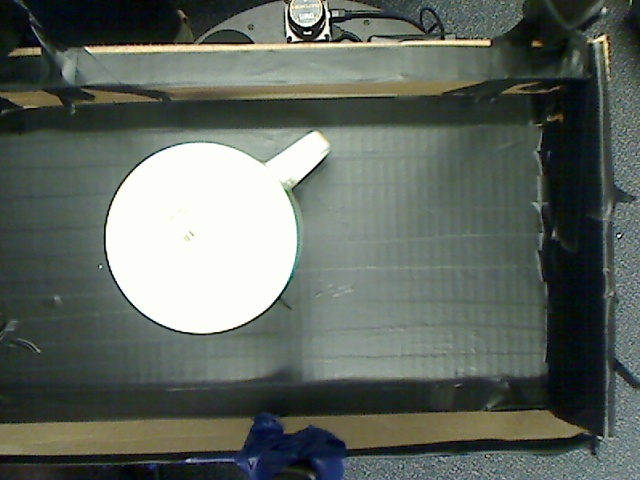mug: (96, 120, 349, 342)
